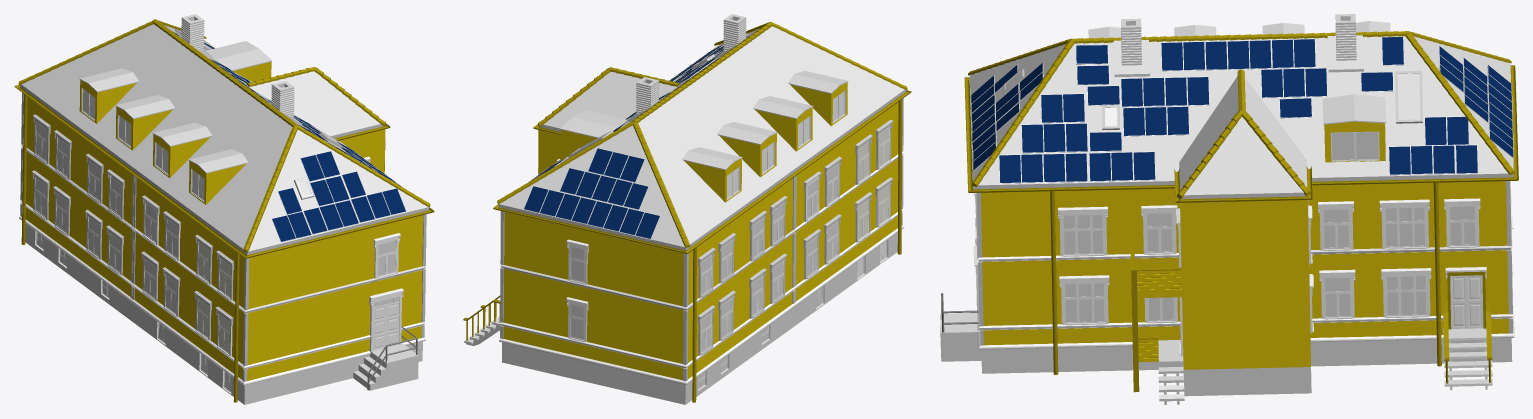
Rendered from house_panel_2_0111.glb.
The picture shows the model from 3 angles, left to right: view 1: azimuth 30°, elevation 25°; view 2: azimuth 150°, elevation 25°; view 3: azimuth 270°, elevation 25°; orthographic projection. The views are drawn at different scales.
Visible parts, largest first — view 1: SketchUp.874, SketchUp.871, SketchUp.865, SketchUp.002, SketchUp.511, SketchUp.484, SketchUp.001, SketchUp.872, SketchUp.015, SketchUp.057, SketchUp.052, SketchUp.734 (+33 smaller); view 2: SketchUp.874, SketchUp.871, SketchUp.002, SketchUp.865, SketchUp.484, SketchUp.511, SketchUp.001, SketchUp.872, SketchUp.057, SketchUp.052, SketchUp.734, SketchUp.522 (+30 smaller); view 3: SketchUp.874, SketchUp.871, SketchUp.868, SketchUp.865, SketchUp.002, SketchUp, SketchUp.511, SketchUp.872, SketchUp.734, SketchUp.057, SketchUp.484, SketchUp.019 (+72 smaller).
Part boxes in pixels (x1,y1,x2,y2): SketchUp.874: (25,97,423,380); SketchUp.871: (21,24,428,251); SketchUp.865: (249,71,380,136); SketchUp.002: (25,224,422,404); SketchUp.511: (14,40,434,258); SketchUp.484: (19,216,425,385); SketchUp.001: (109,286,199,370); SketchUp.872: (20,84,428,255); SketchUp.015: (353,351,418,390); SketchUp.057: (20,200,425,369); SketchUp.052: (21,144,426,313); SketchUp.734: (205,41,272,70); SketchUp.874: (503,102,898,380); SketchUp.871: (499,26,904,247); SketchUp.002: (502,232,897,404); SketchUp.865: (544,72,677,128); SketchUp.484: (499,225,904,384); SketchUp.511: (493,48,911,253); SketchUp.001: (770,262,857,343); SketchUp.872: (498,89,905,250); SketchUp.057: (499,209,903,368); SketchUp.052: (500,153,902,310); SketchUp.734: (560,110,626,138); SketchUp.522: (790,82,847,126); SketchUp.874: (981,109,1508,345); SketchUp.871: (969,36,1513,185); SketchUp.868: (1180,200,1310,369); SketchUp.865: (1179,76,1307,195); SketchUp.002: (981,338,1512,373); SketchUp: (1183,366,1311,396); SketchUp.511: (964,65,1518,192); SketchUp.872: (969,77,1513,189); SketchUp.734: (1322,94,1386,124); SketchUp.057: (975,218,1513,330); SketchUp.484: (975,240,1514,349); SketchUp.019: (1137,270,1181,298).
Bounding box in the file's own units: 13.74 × 13.47 × 22.92.
